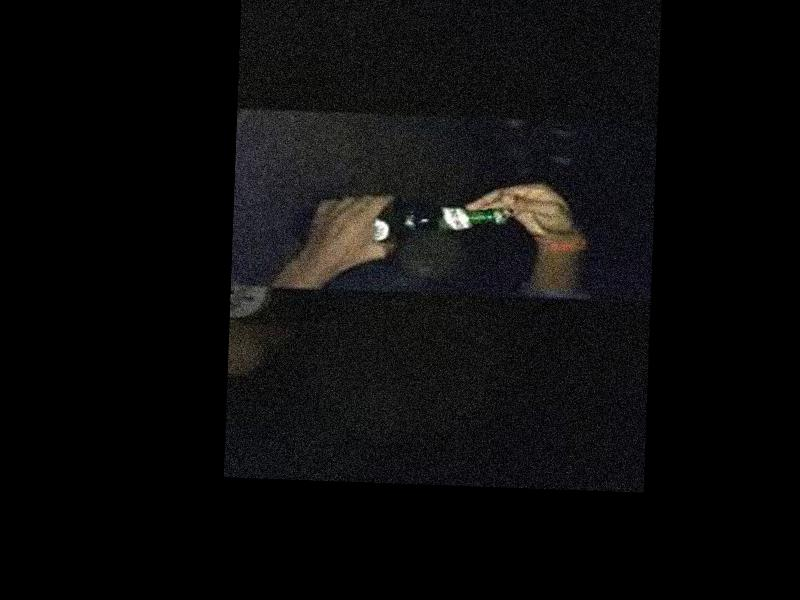Beer: (294, 196, 506, 256)
